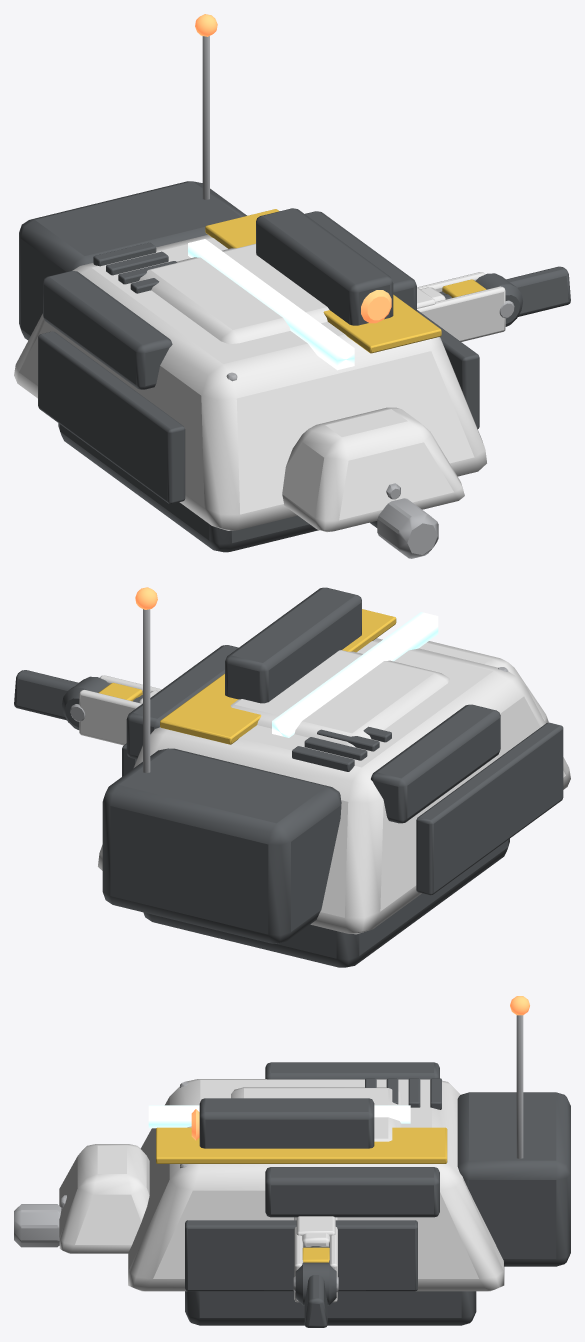
File: rifle.glb
The picture shows the model from 3 angles, top to bottom: view 1: azimuth 30°, elevation 25°; view 2: azimuth 150°, elevation 25°; view 3: azimuth 270°, elevation 25°; orthographic projection. The views are drawn at different scales.
Parts seen in each view (by area): view 1: Hull, Turret, LegUpper, Barrel, LegLower; view 2: Hull, Turret, LegUpper, LegLower; view 3: Hull, Turret, LegUpper, Barrel, LegLower.
Boxes of the visible parts, x1,y1,x2,y2 form: Hull: (14,14,486,552); Turret: (139,208,393,343); LegUpper: (417,272,522,341); Barrel: (370,483,438,558); LegLower: (420,266,570,316); Hull: (98,587,570,967); Turret: (225,587,449,747); LegUpper: (62,675,161,745); LegLower: (14,670,158,720); Hull: (59,996,570,1325); Turret: (191,1087,401,1148); LegUpper: (293,1216,338,1305); Barrel: (14,1195,66,1247); LegLower: (302,1233,329,1327).
Bounding box in the file's own units: 0.657 × 0.484 × 0.765.
